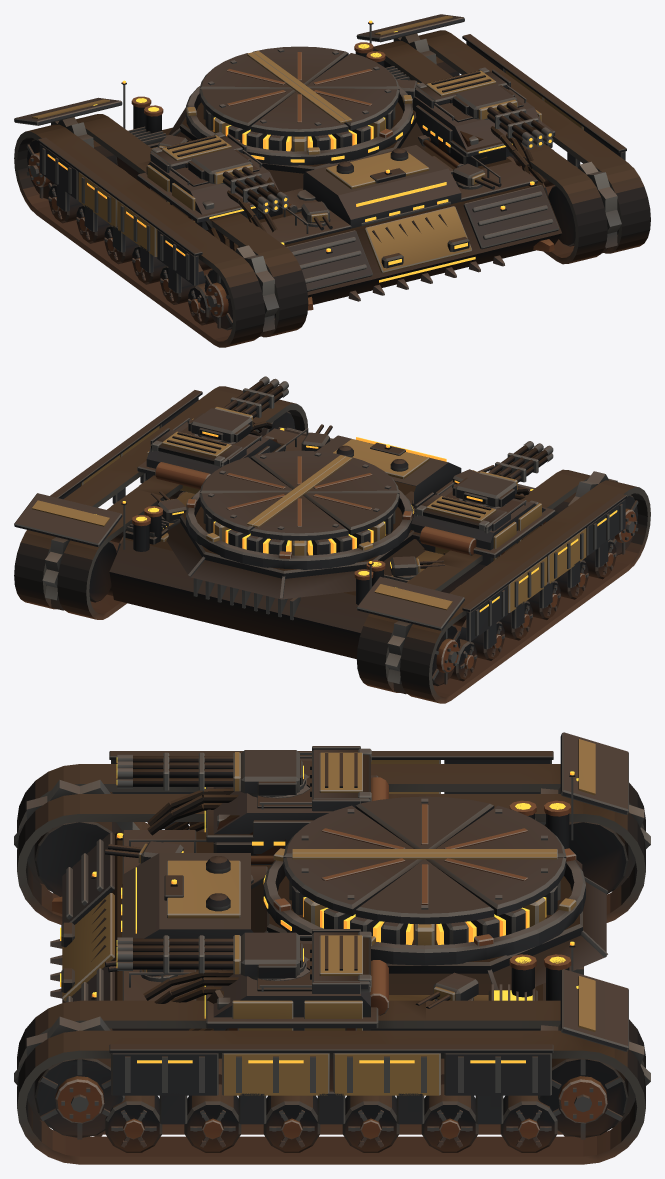
Rendered from bastion-9.glb.
The picture shows the model from 3 angles, top to bottom: view 1: azimuth 30°, elevation 25°; view 2: azimuth 150°, elevation 25°; view 3: azimuth 270°, elevation 25°; orthographic projection. The views are drawn at different scales.
Visible parts, largest first — view 1: bastion_hull, bastion_tread_left, bastion_tread_right, bastion_core_shutter_a, bastion_core_shutter_b, bastion_gun_right, bastion_battery_right, bastion_gun_left, bastion_battery_left, bastion_core, bastion_idler_left, bastion_idler_right (+12 smaller); view 2: bastion_hull, bastion_tread_left, bastion_tread_right, bastion_core_shutter_a, bastion_core_shutter_b, bastion_battery_left, bastion_gun_right, bastion_gun_left, bastion_core, bastion_battery_right, bastion_sprocket_left, bastion_shutter_left (+9 smaller); view 3: bastion_hull, bastion_tread_right, bastion_tread_left, bastion_core_shutter_b, bastion_core_shutter_a, bastion_gun_right, bastion_battery_right, bastion_gun_left, bastion_idler_right, bastion_sprocket_right, bastion_core, bastion_battery_left (+12 smaller).
Part boxes in pixels (box(x1,y1,x2,y2)): bastion_hull: box(14, 14, 626, 310); bastion_tread_left: box(14, 114, 308, 347); bastion_tread_right: box(372, 30, 650, 264); bastion_core_shutter_a: box(199, 52, 348, 136); bastion_core_shutter_b: box(252, 46, 399, 130); bastion_gun_right: box(452, 84, 553, 149); bastion_battery_right: box(412, 85, 545, 156); bastion_gun_left: box(188, 148, 288, 213); bastion_battery_left: box(146, 150, 281, 230); bastion_core: box(203, 106, 395, 151); bastion_idler_left: box(204, 245, 279, 336); bastion_idler_right: box(548, 161, 621, 253); bastion_hull: box(14, 390, 626, 658); bastion_tread_left: box(356, 469, 650, 703); bastion_tread_right: box(14, 386, 307, 619); bastion_core_shutter_a: box(250, 456, 399, 540); bastion_core_shutter_b: box(199, 450, 346, 534); bastion_battery_left: box(411, 482, 545, 565); bastion_gun_right: box(188, 376, 288, 443); bastion_gun_left: box(452, 441, 553, 507); bastion_core: box(203, 510, 395, 555); bastion_battery_right: box(146, 418, 281, 493); bastion_sprocket_left: box(385, 620, 460, 694); bastion_shutter_left: box(415, 492, 510, 533); bastion_hull: box(50, 732, 628, 1124); bastion_tread_right: box(17, 1000, 645, 1164); bastion_tread_left: box(17, 764, 645, 924); bastion_core_shutter_b: box(283, 853, 566, 924); bastion_core_shutter_a: box(283, 796, 566, 858); bastion_gun_right: box(116, 932, 305, 979); bastion_battery_right: box(213, 935, 388, 1030); bastion_gun_left: box(116, 750, 305, 796); bastion_idler_right: box(14, 1016, 124, 1139); bastion_sprocket_right: box(538, 1024, 650, 1139); bastion_core: box(289, 881, 560, 945); bastion_battery_left: box(213, 752, 388, 853).
Bounding box in the file's own units: 7.23 × 1.89 × 6.48.
